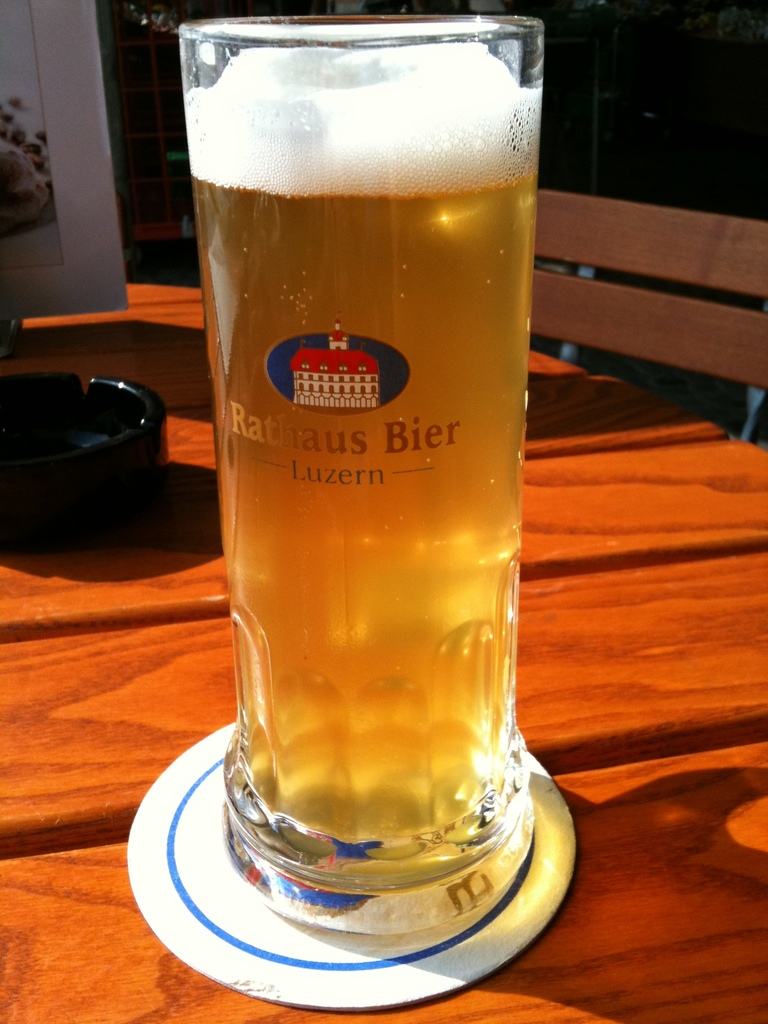Beer: (176, 16, 547, 941)
